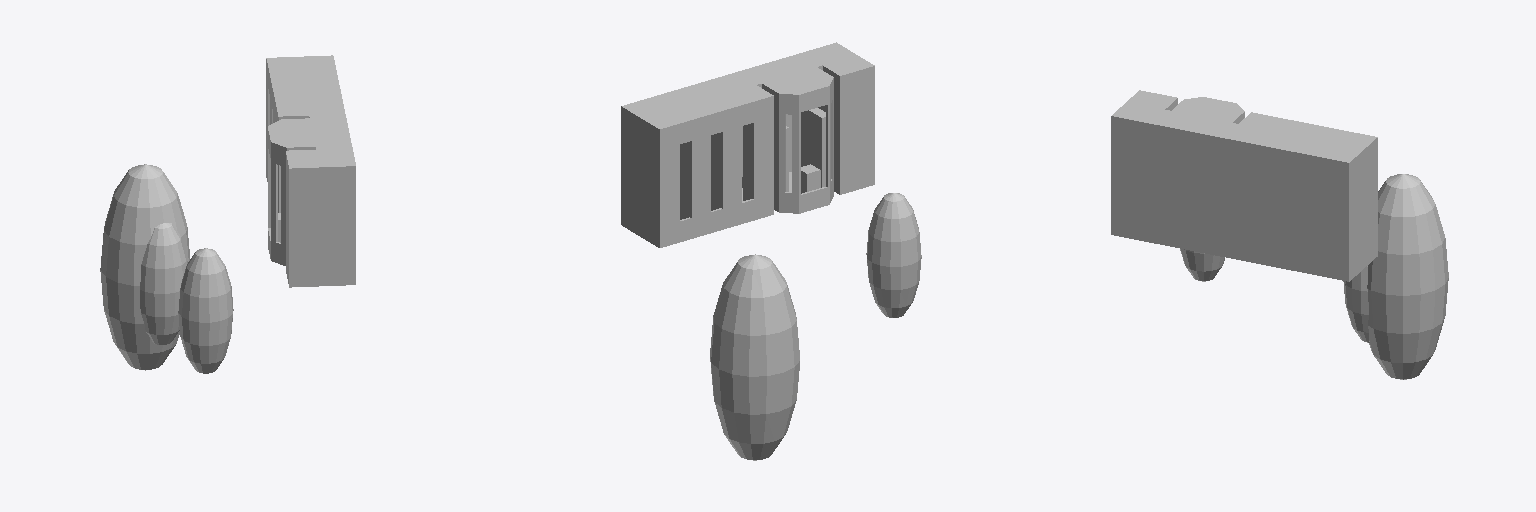
Rendered from museum.obj.
The picture shows the model from 3 angles: view 1: azimuth 30°, elevation 25°; view 2: azimuth 150°, elevation 25°; view 3: azimuth 270°, elevation 25°; orthographic projection.
Parts seen in each view (by area): view 1: Museum; view 2: Museum; view 3: Museum.
Boxes of the visible parts, x1=… form: Museum: x1=100, y1=55, x2=355, y2=373; Museum: x1=621, y1=42, x2=921, y2=460; Museum: x1=1111, y1=90, x2=1448, y2=379.
Size of the model in its own units: 3.95 by 4.97 by 5.15.